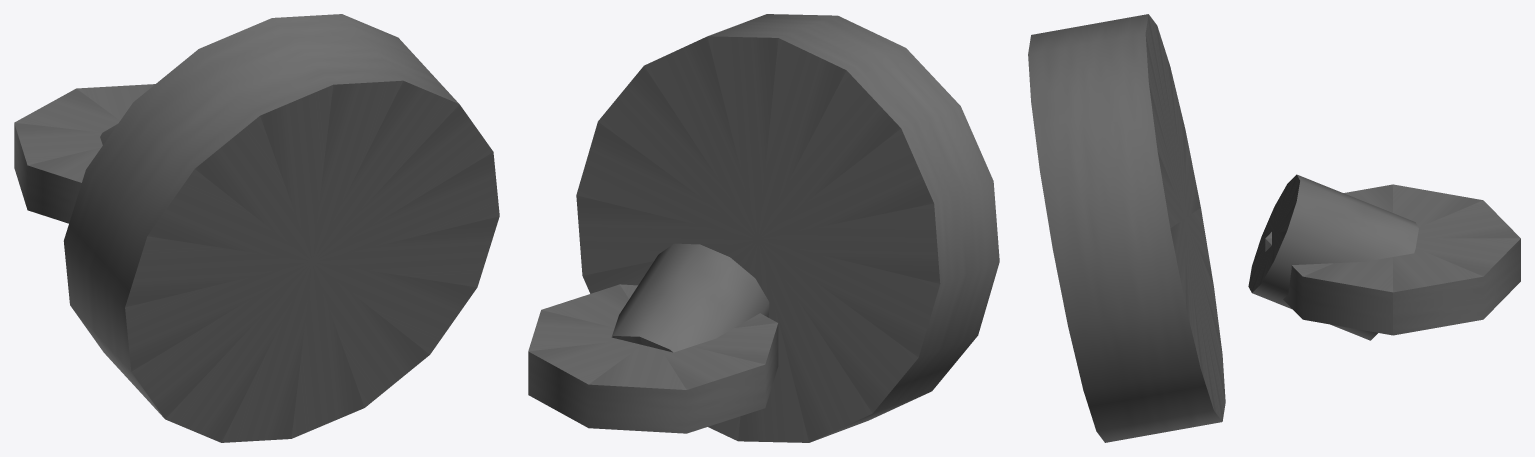
File: mastarmcurve_10x2_c6_up.obj
3 views of the same model, side by side, from view 1: azimuth 30°, elevation 25°; view 2: azimuth 150°, elevation 25°; view 3: azimuth 270°, elevation 25° (orthographic). The views are drawn at different scales.
Visible parts, largest first — view 1: mastarm_10x2_c6_up; view 2: mastarm_10x2_c6_up; view 3: mastarm_10x2_c6_up.
Boxes of the visible parts, x1=… form: mastarm_10x2_c6_up: x1=14, y1=14, x2=499, y2=442; mastarm_10x2_c6_up: x1=528, y1=14, x2=999, y2=442; mastarm_10x2_c6_up: x1=1028, y1=14, x2=1520, y2=442.
Bounding box in the file's own units: 0.6494 × 0.6734 × 0.7713.
